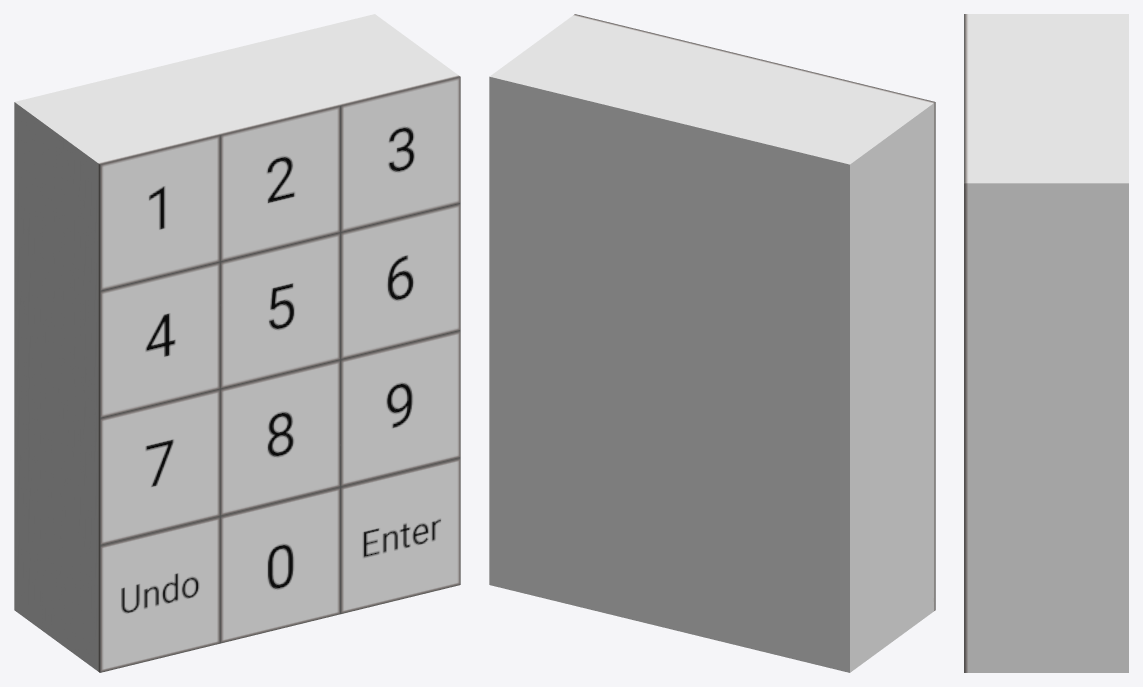
File: keyPad.glb
The picture shows the model from 3 angles, left to right: view 1: azimuth 30°, elevation 25°; view 2: azimuth 150°, elevation 25°; view 3: azimuth 270°, elevation 25°; orthographic projection. The views are drawn at different scales.
Parts seen in each view (by area): view 1: pinPad; view 2: pinPad; view 3: pinPad.
Boxes of the visible parts, x1=… form: pinPad: x1=14, y1=14, x2=460, y2=672; pinPad: x1=489, y1=14, x2=935, y2=672; pinPad: x1=964, y1=14, x2=1128, y2=672.
Size of the model in its own units: 0.00367 by 0.00495 by 0.00151.
Materials: 1 (1 with a texture image).
